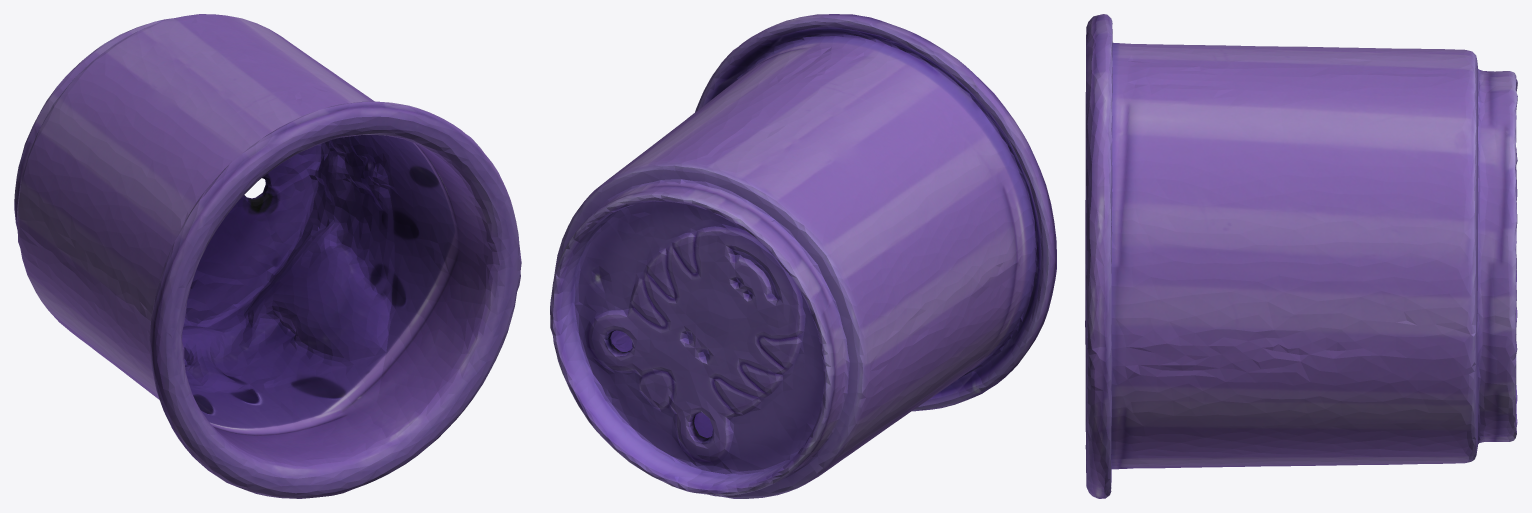
The model's file is cup.obj.
3 views of the same model, side by side, from view 1: azimuth 30°, elevation 25°; view 2: azimuth 150°, elevation 25°; view 3: azimuth 270°, elevation 25° (orthographic). The views are drawn at different scales.
Visible parts, largest first — view 1: 065-f_cups_textured.obj; view 2: 065-f_cups_textured.obj; view 3: 065-f_cups_textured.obj.
Part boxes in pixels (x1,y1,x2,y2): 065-f_cups_textured.obj: [14, 14, 521, 498]; 065-f_cups_textured.obj: [550, 14, 1056, 498]; 065-f_cups_textured.obj: [1085, 14, 1517, 498].
Size of the model in its own units: 0.0807 by 0.0809 by 0.0722.
Materials: 1 (1 with a texture image).
